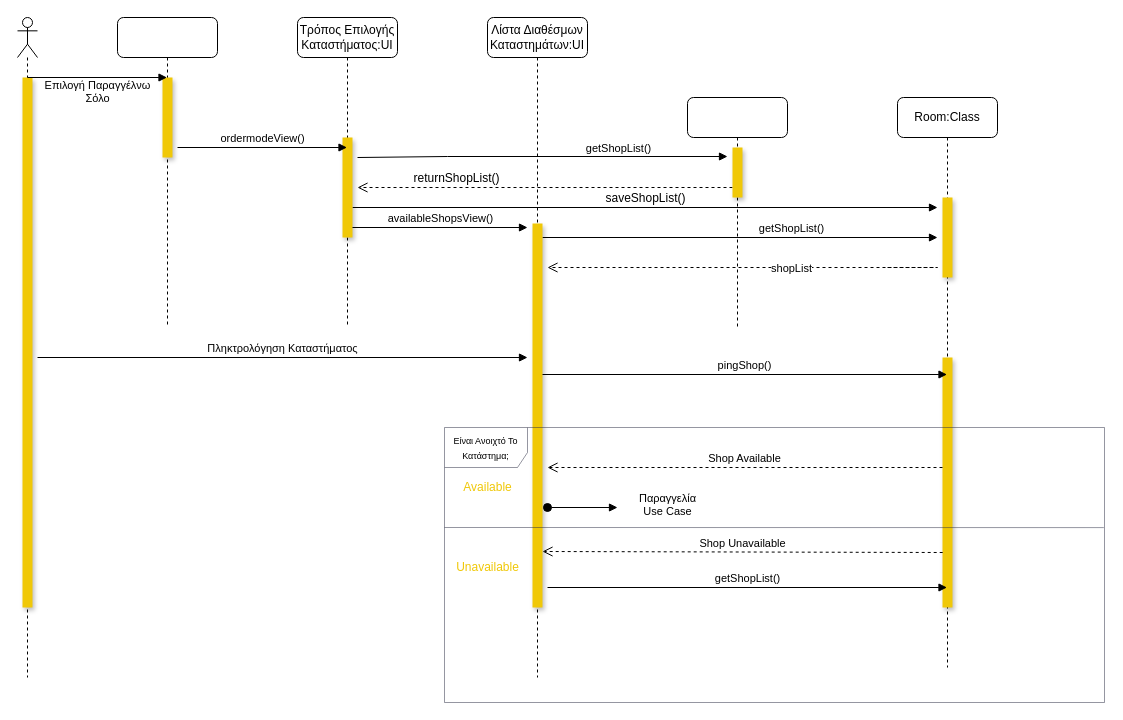
Some shapes in this 1123 by 720 pixel diagram are drawn without their labels. The centre of each missing label's shape, as x and y in pixels:
"Shop:DB" goes at (x=737, y=212).
"Αρχική Οθόνη:UI" goes at (x=167, y=172).
